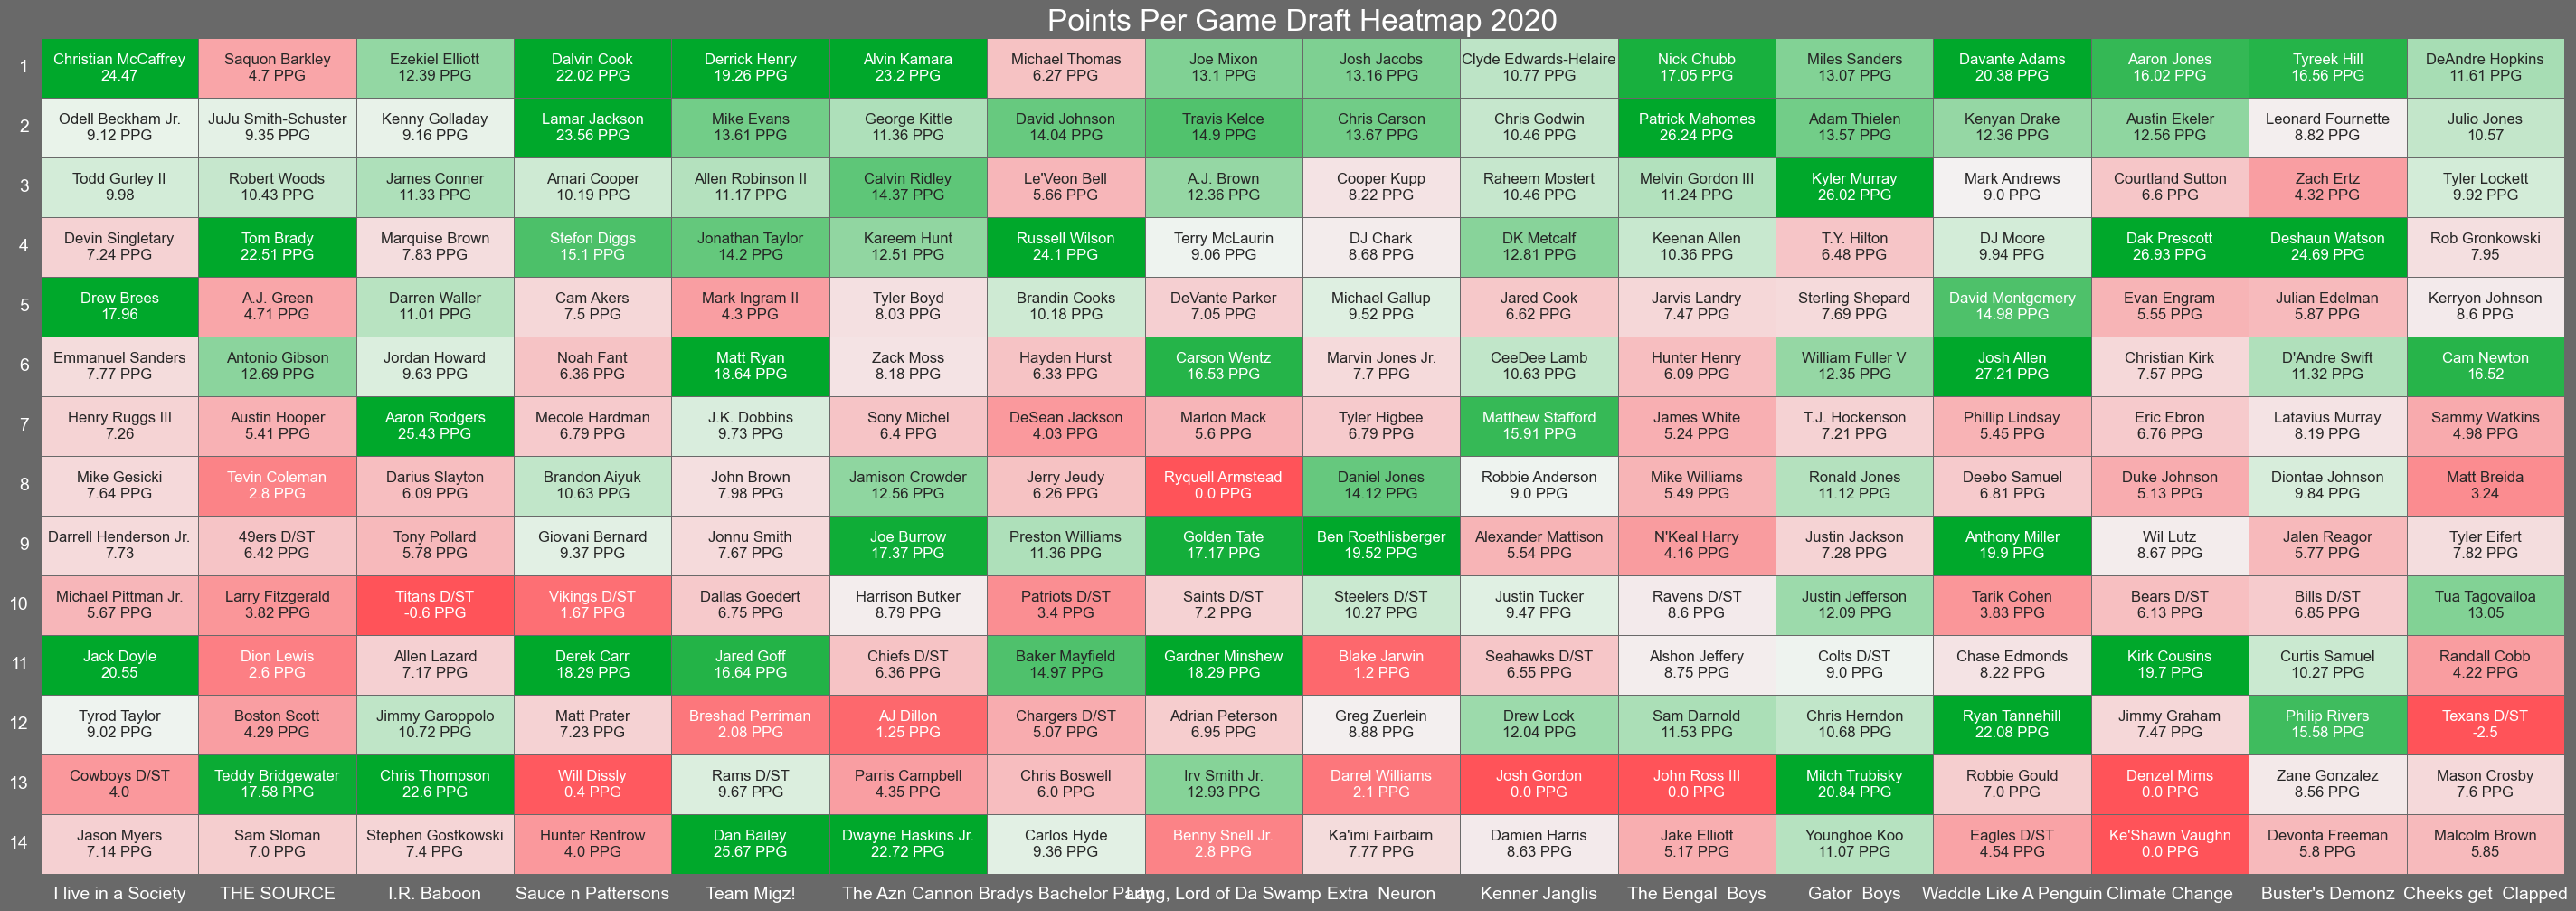

This screenshot's page, from the dashboard's own definition file:
{"tool":"powerbi","page":{"name":"Page 3","canvas":[1280,720],"ordinal":2},"visuals":[{"type":"pivotTable","fields":{"Rows":["Query1.round","Query1.playername"],"Columns":["Query1.pick"],"Values":["Sum(Query1.total)"]},"box":[0,0,1280,720],"z":1}]}

Visuals, with their boxes on the page's 1280x720 design canvas (x1, y1, x2, y2). These are canvas units, not pixel positions in the 2576x911 screenshot, which may show the page scaled, cropped or inside an application window:
pivotTable - Query1.round x Query1.playername: <region>0, 0, 1280, 720</region>
